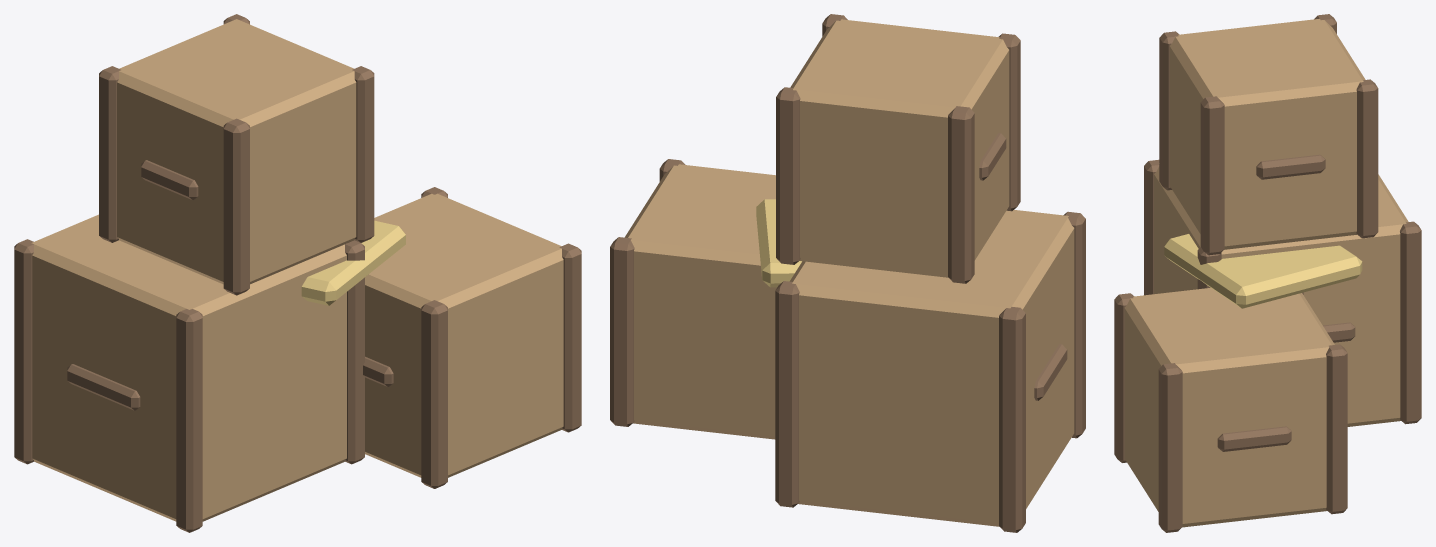
Rendered from town_crate_stack.glb.
The picture shows the model from 3 angles, left to right: view 1: azimuth 30°, elevation 25°; view 2: azimuth 150°, elevation 25°; view 3: azimuth 270°, elevation 25°; orthographic projection. The views are drawn at different scales.
Visible parts, largest first — view 1: world; view 2: world; view 3: world.
Part boxes in pixels (x1,y1,x2,y2): world: (14,14,581,532); world: (610,14,1085,532); world: (1114,14,1421,532).
Bounding box in the file's own units: 2 × 1.6 × 1.28.
